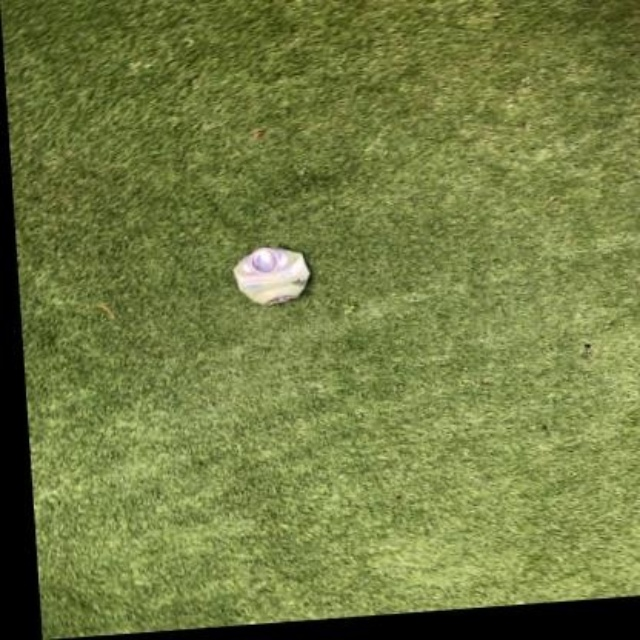trash: (234, 248, 309, 303)
